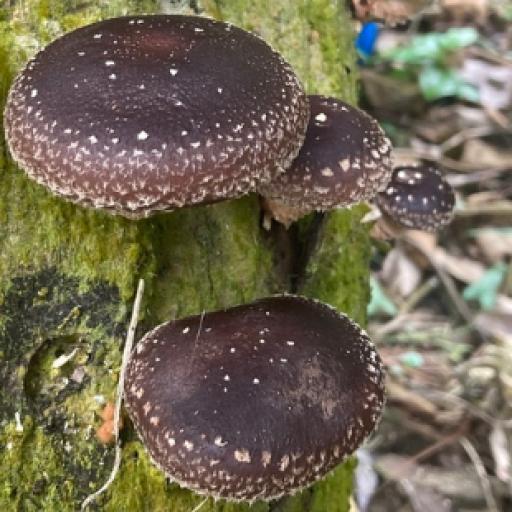Shiitake Mushroom: (10, 16, 387, 201), (116, 264, 390, 512), (377, 164, 459, 232)
